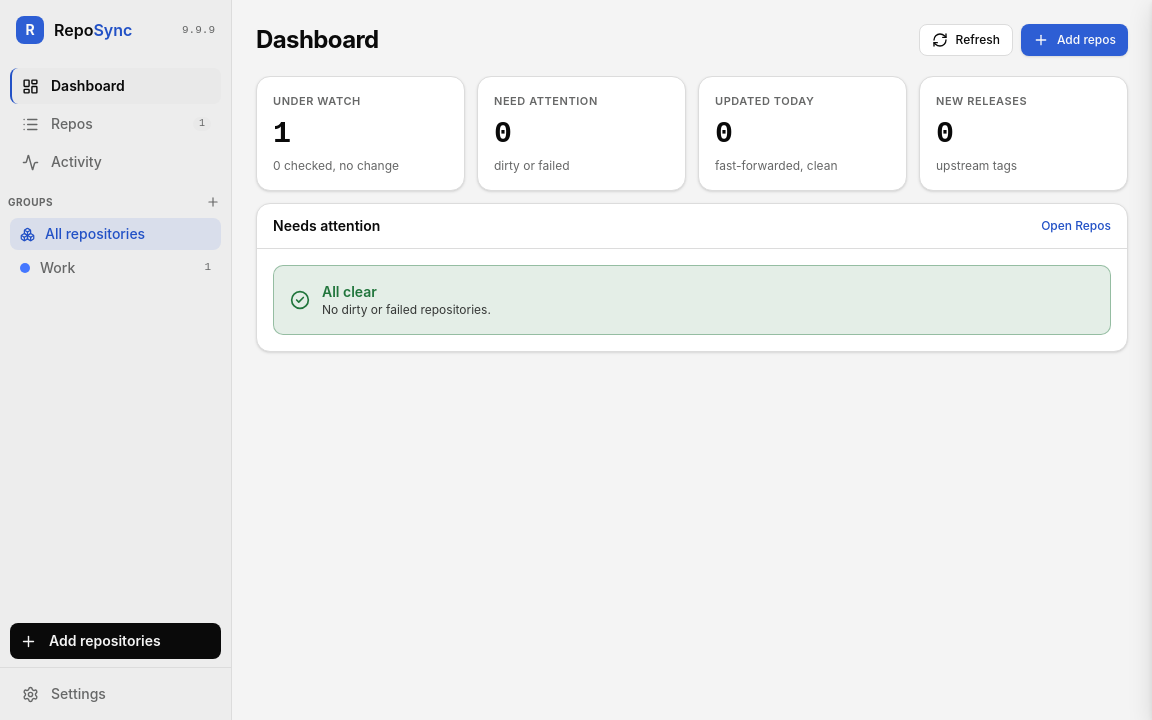
Test: AppShell sidebar › the sidebar's add-repo button opens the Repos screen's Add dialog (L4)
The width and height of the screenshot is (1152, 720).
Expected: the heading "Dashboard" is shown, [256, 26, 379, 54]
Click the button "Add repositories". click: (116, 641)
box: [10, 623, 221, 659]
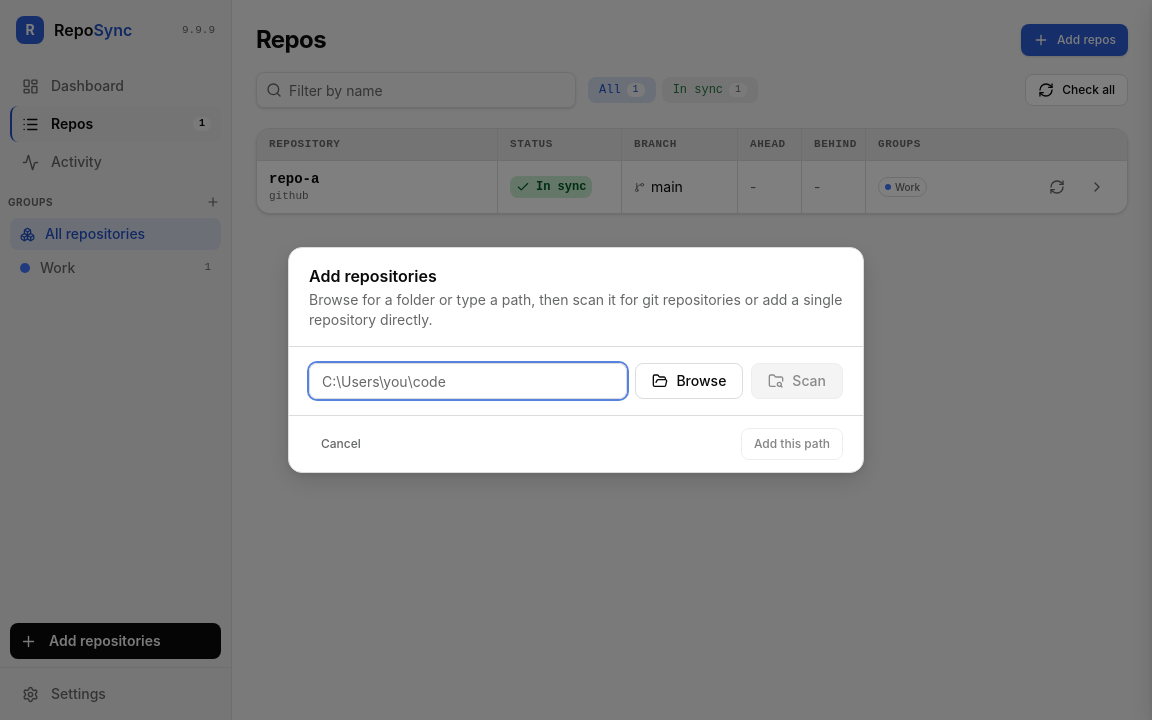
Expected: the heading "Repos" is shown, [256, 26, 326, 54]
Expected: the dialog is shown
